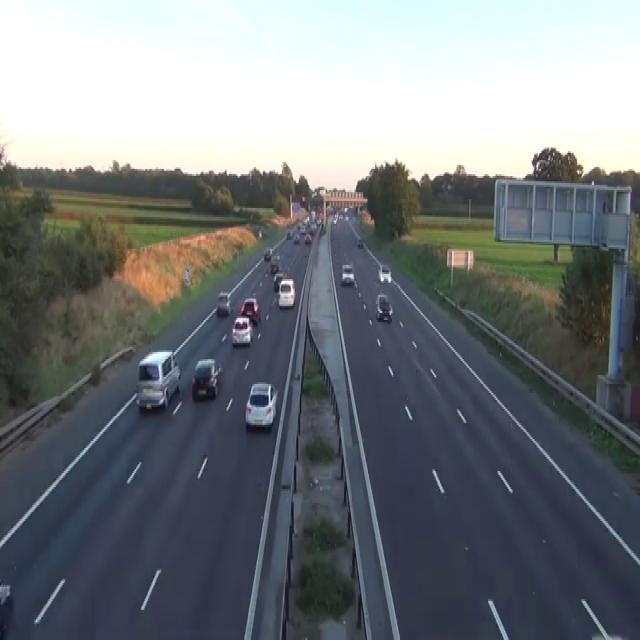Car: (135, 348, 180, 411), (244, 381, 278, 428), (191, 357, 222, 400), (231, 314, 252, 346), (0, 580, 11, 636), (239, 297, 260, 323), (375, 292, 392, 322), (278, 278, 295, 308), (216, 290, 231, 314), (341, 263, 354, 285), (0, 580, 11, 606), (378, 263, 391, 283), (273, 272, 283, 290), (270, 258, 279, 274), (263, 247, 272, 260), (356, 237, 363, 247), (293, 233, 300, 243), (304, 233, 311, 243), (286, 229, 292, 240), (320, 222, 326, 233), (233, 204, 240, 213), (332, 215, 337, 224), (300, 224, 305, 233), (258, 230, 262, 238), (301, 196, 305, 204), (344, 206, 348, 212), (344, 215, 348, 221)
